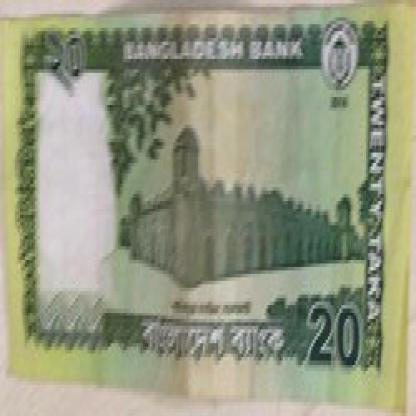Twenty: (304, 284, 368, 374), (45, 21, 105, 100)
